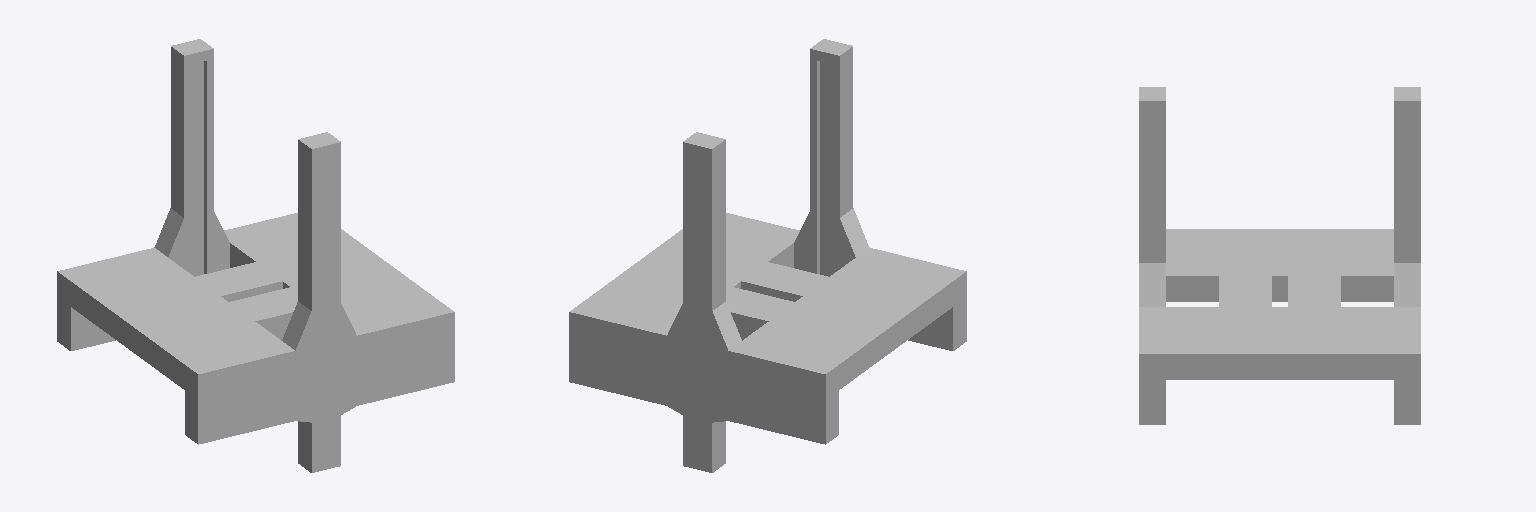
File: woodmill_master.obj
3 renders of one model, left to right at view 1: azimuth 30°, elevation 25°; view 2: azimuth 150°, elevation 25°; view 3: azimuth 270°, elevation 25°, orthographic.
Parts seen in each view (by area): view 1: woodmill_master; view 2: woodmill_master; view 3: woodmill_master.
Boxes of the visible parts, <box> form: woodmill_master: <box>57,39,454,472</box>; woodmill_master: <box>569,39,966,472</box>; woodmill_master: <box>1139,87,1420,424</box>.
Size of the model in its own units: 0.9998 by 1.21 by 0.9523.